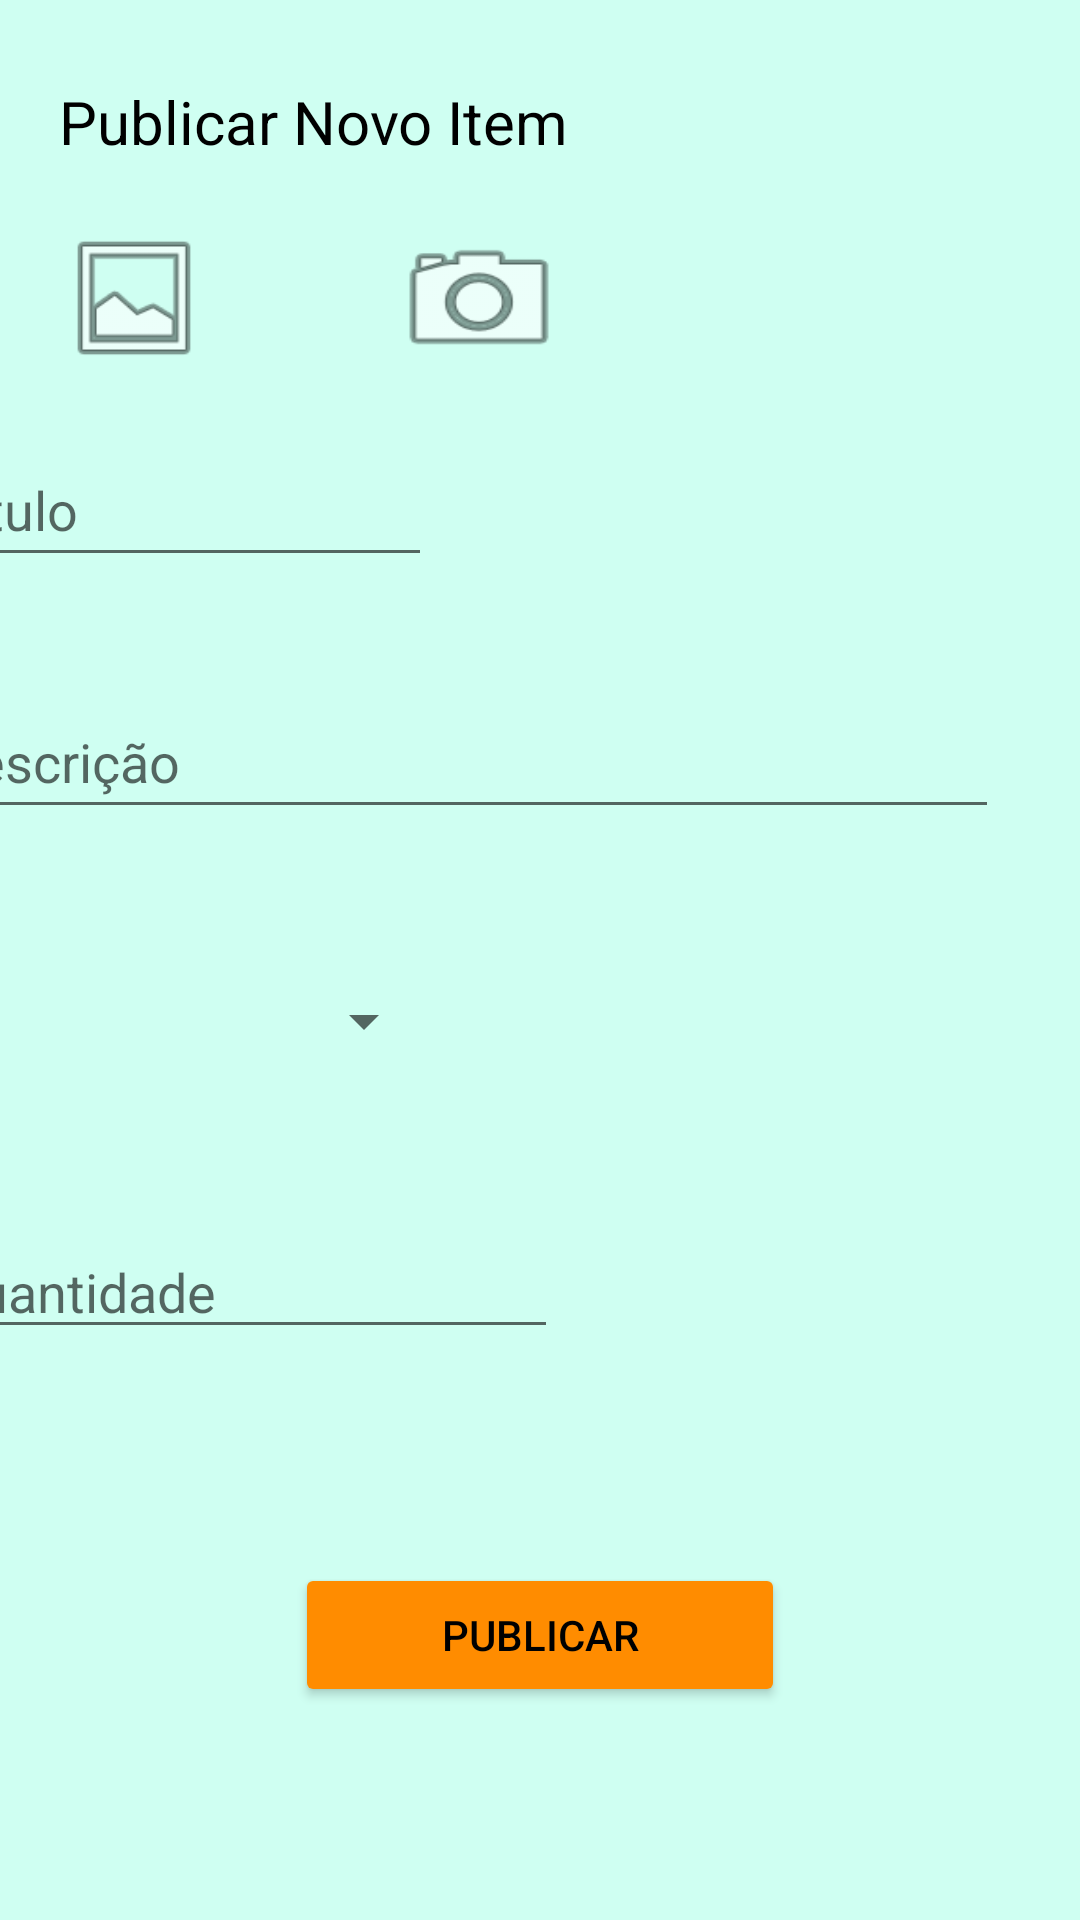

Where icons sit on this 1080*1920 app screen, as rect(x1, y1, x2, y2):
camera: rect(409, 250, 549, 344)
gallery: rect(77, 241, 191, 355)
